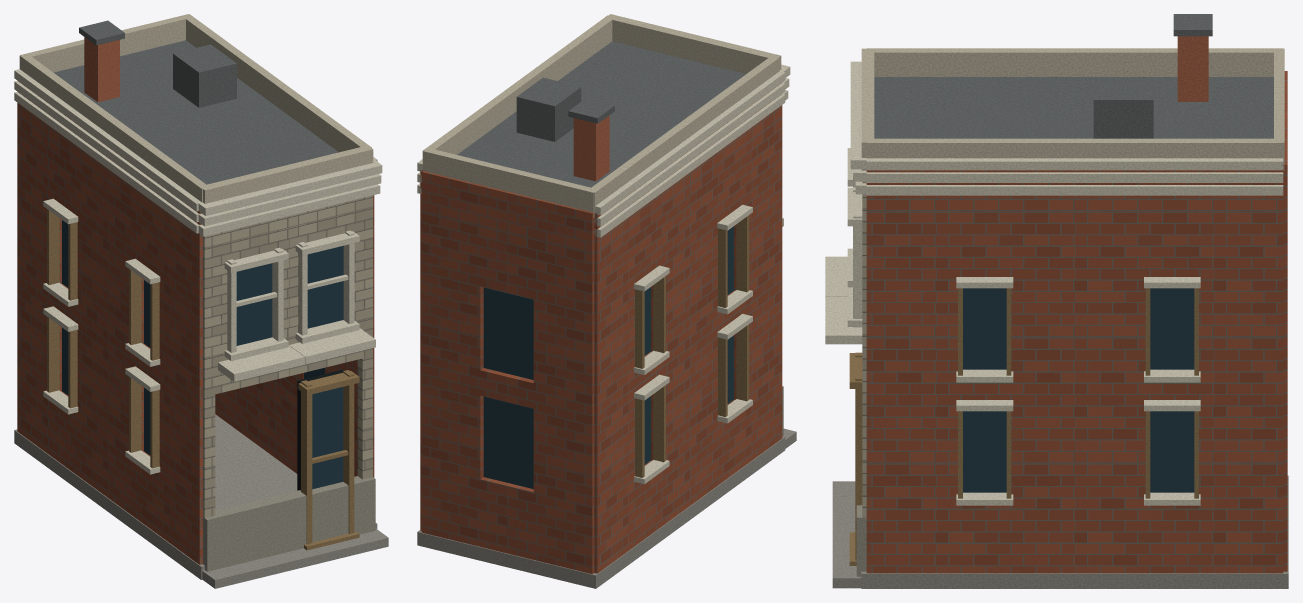
The model's file is RUNDWN15_lod2.glb.
3 renders of one model, left to right at view 1: azimuth 30°, elevation 25°; view 2: azimuth 150°, elevation 25°; view 3: azimuth 270°, elevation 25°, orthographic. The views are drawn at different scales.
Visible parts, largest first — view 1: RUNDWN15_LOD2; view 2: RUNDWN15_LOD2; view 3: RUNDWN15_LOD2.
Boxes of the visible parts, box(x1,y1,x2,y2) form: RUNDWN15_LOD2: box(14, 14, 388, 588); RUNDWN15_LOD2: box(417, 14, 796, 588); RUNDWN15_LOD2: box(825, 14, 1288, 588).
Bounding box in the file's own units: 3.71 × 7.85 × 6.67.
Materials: 11 (9 with a texture image).
